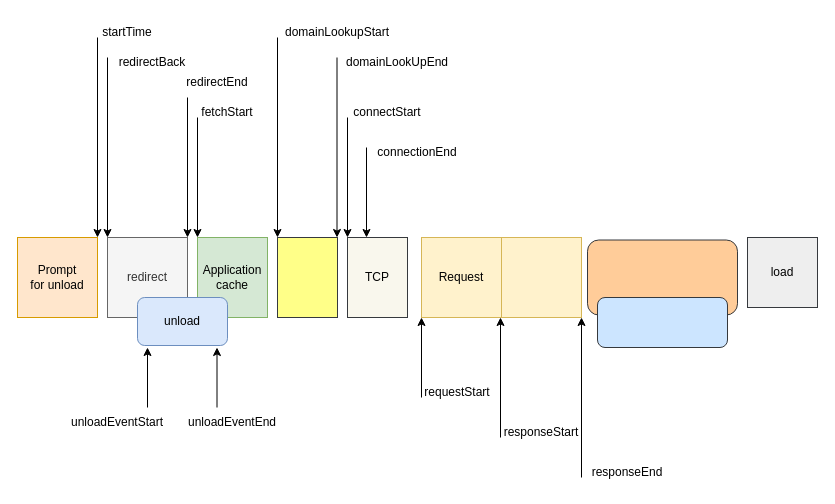
Image size: 835x504. Some labels were removed from this diagram. Here are the shapes that lost their labels. From the top down, the centre of each, then its label:
At (307,277): "DNS".
At (541,277): "Response".
At (662,277): "Processing".
At (662,322): "DOMContentLoaded".
